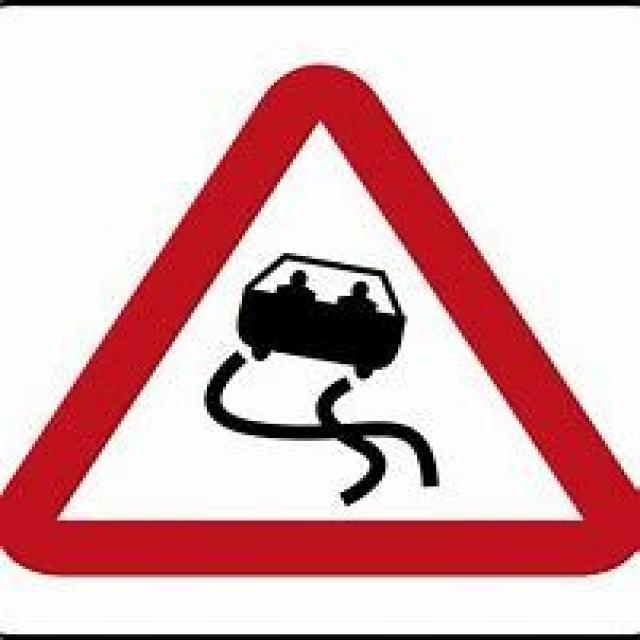slippery road: (18, 65, 618, 577)
